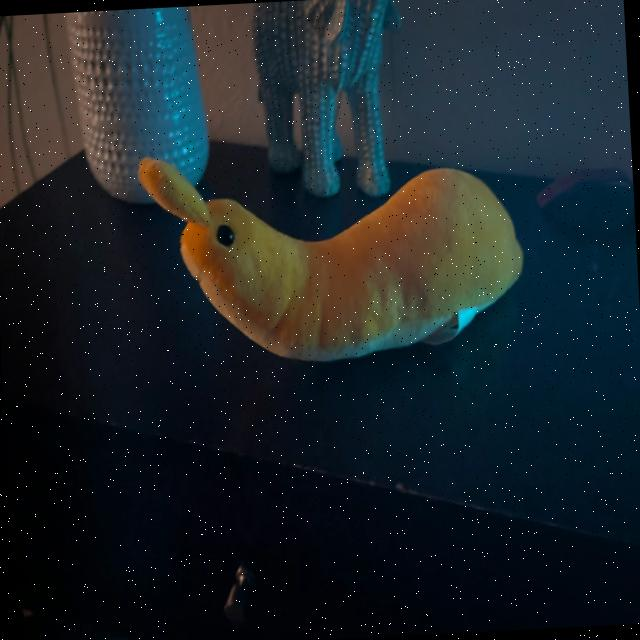banana-slug-toy: (111, 112, 555, 396)
